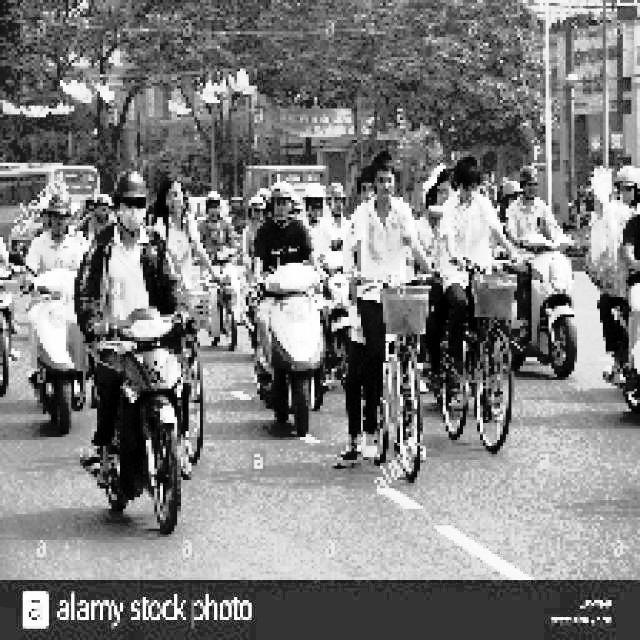Bike: (90, 312, 191, 546), (250, 255, 329, 443), (19, 248, 88, 436), (524, 225, 583, 385)
